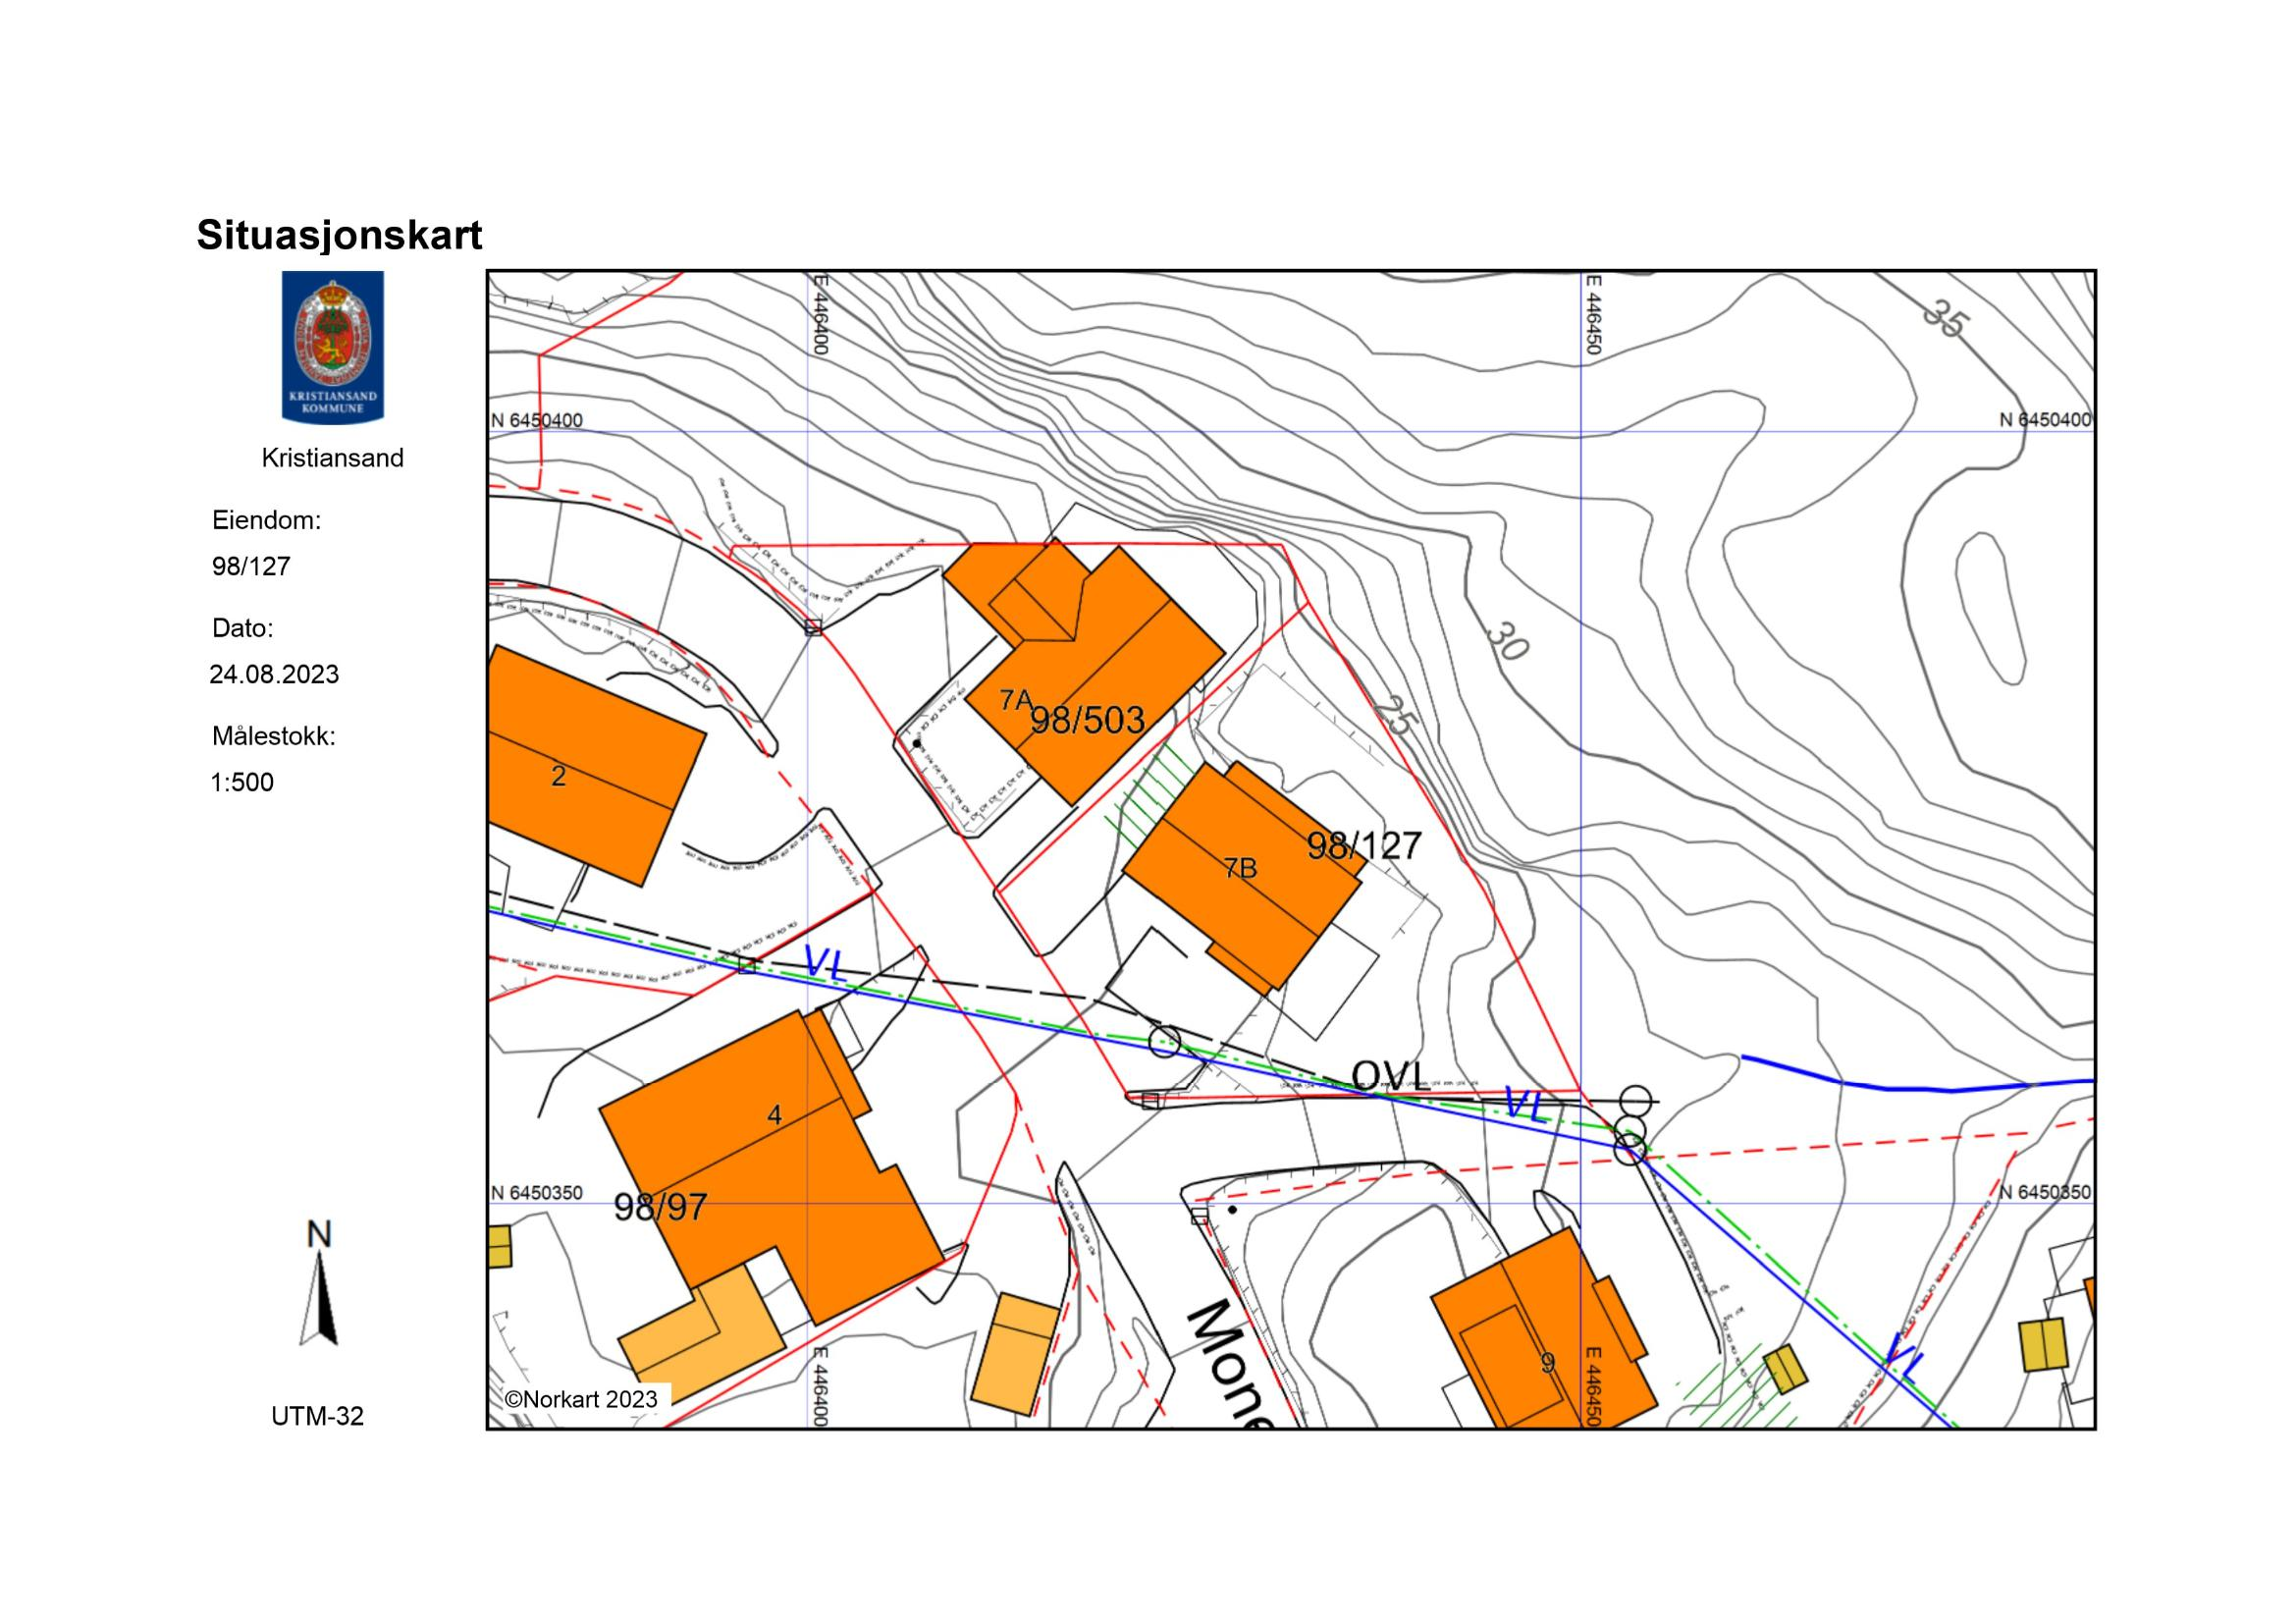situasjonskart: (483, 276, 2089, 1425)
